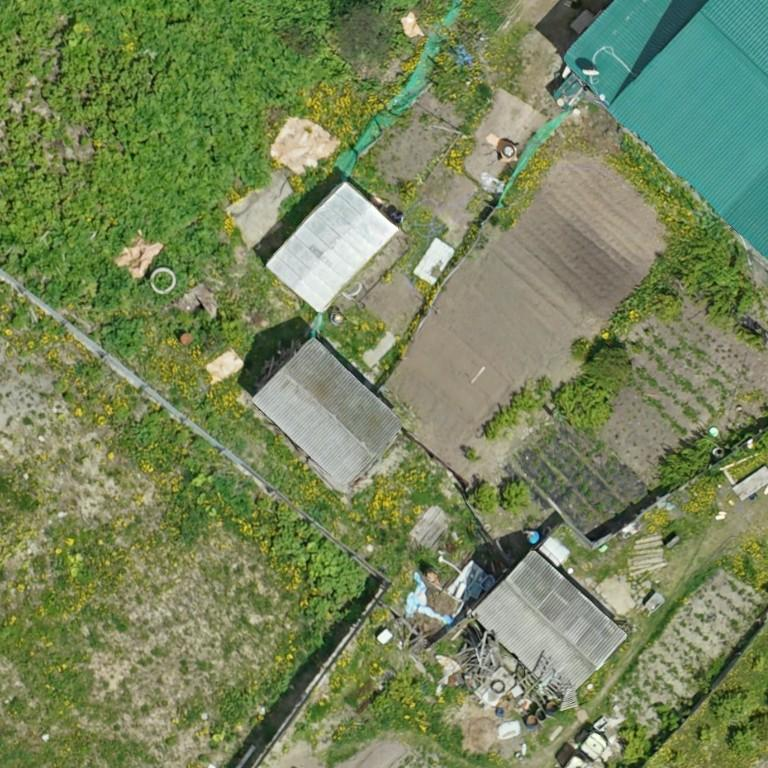hogweed: (0, 0, 351, 308), (273, 511, 378, 644), (0, 39, 34, 104), (101, 316, 143, 357), (135, 411, 168, 441), (157, 273, 171, 288)
